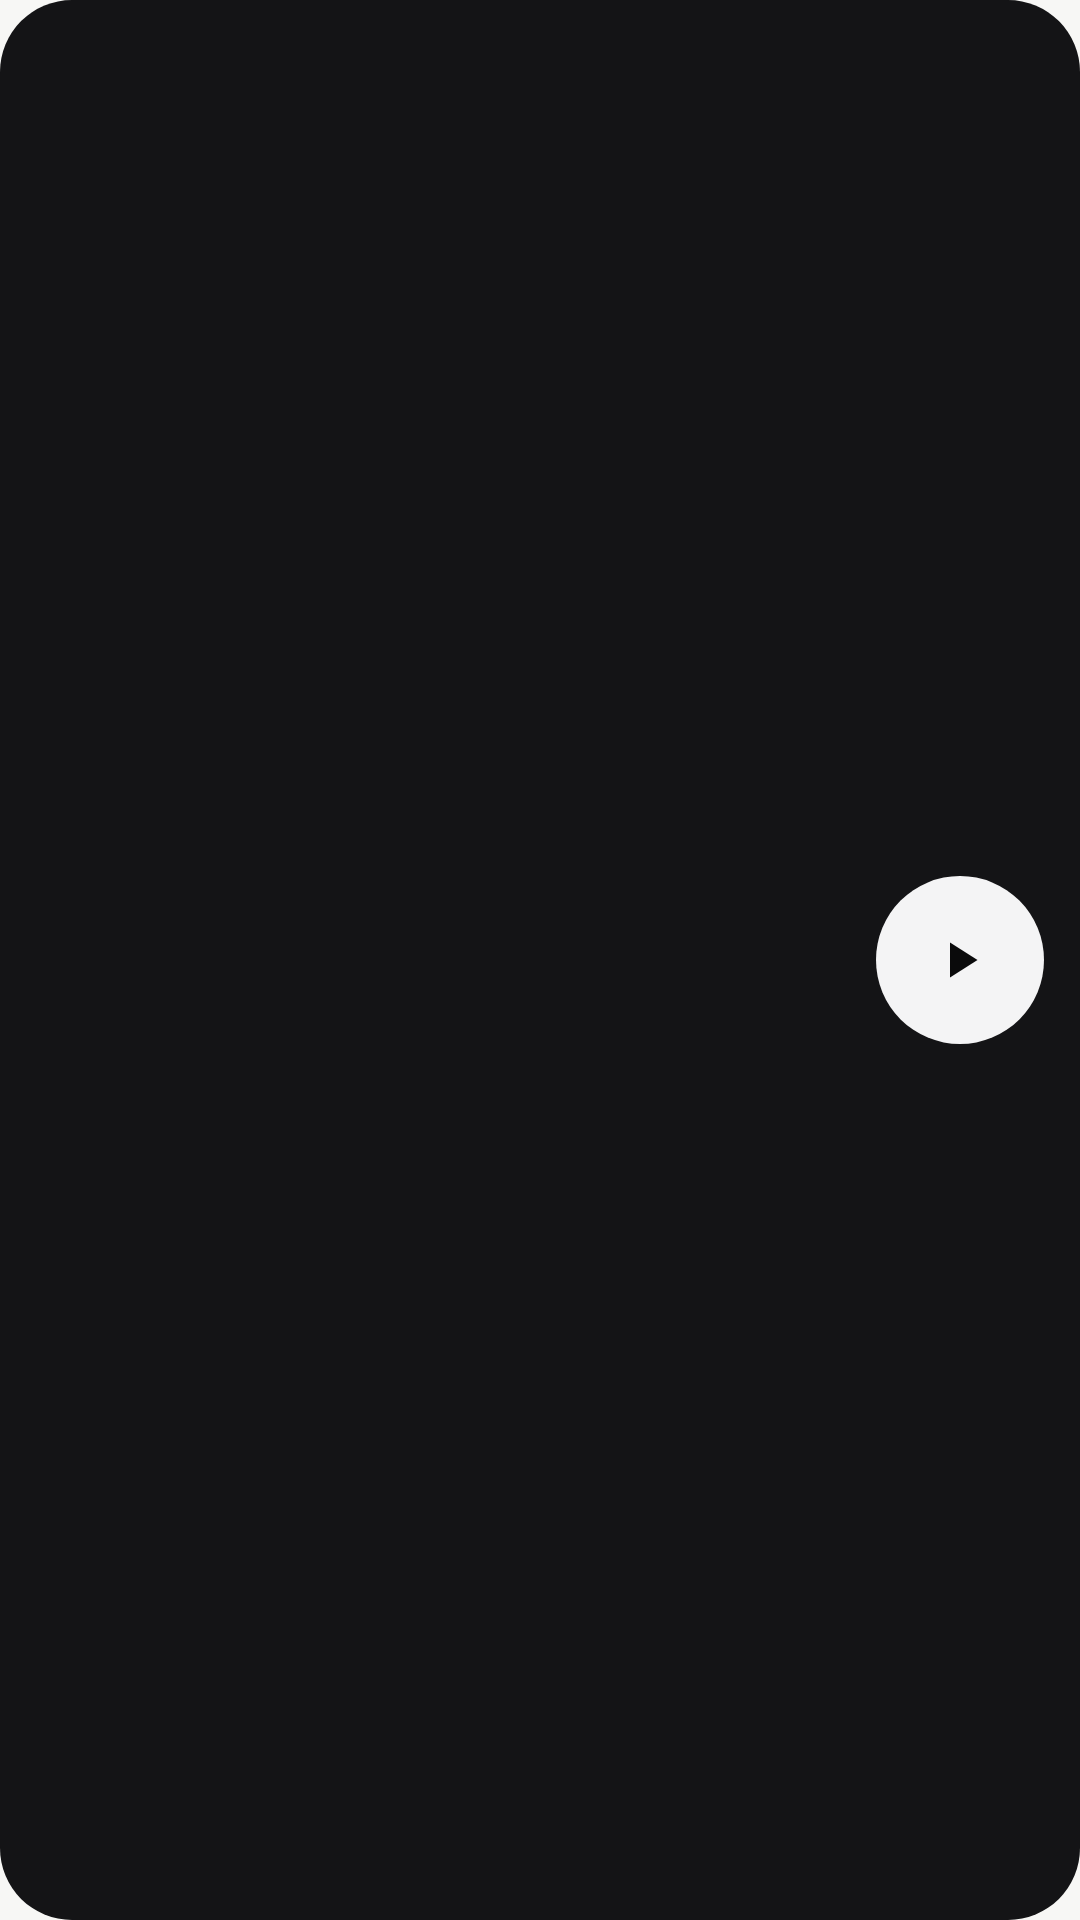

Icons on this 1080*1920 Android screen, each with its box as (x1, y1, x2, y2):
play: (950, 942, 977, 978)
